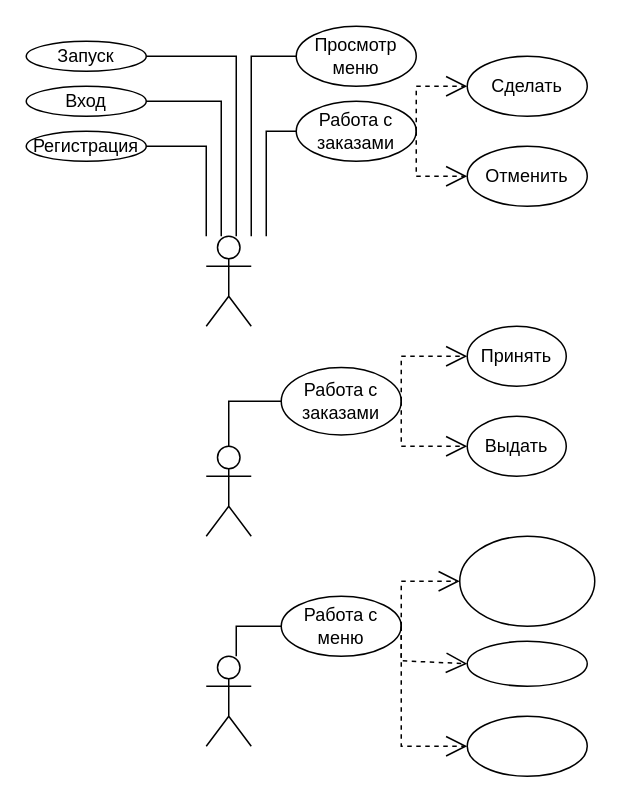
Some shapes in this 621 by 804 pixel diagram are drawn without their labels. The shapes that lost their labels are listed below. From the top down, each one's box as (x1, y1, x2, y2) in pixels, then its label:
(205, 235, 251, 326): Клиент
(205, 445, 251, 536): Официант
(458, 535, 595, 626): Редактировать поозицию
(466, 640, 587, 686): Добавить позицию
(205, 655, 251, 746): Администратор
(466, 715, 587, 776): Удалить позицию
